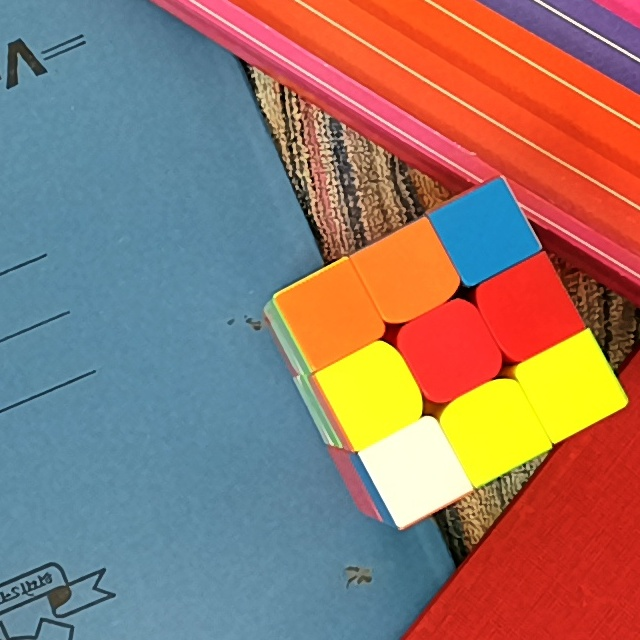tile: (417, 320, 482, 383), (373, 244, 438, 304), (301, 284, 363, 346), (466, 398, 529, 459), (344, 363, 406, 423), (453, 203, 514, 263), (498, 278, 557, 339), (544, 355, 602, 416), (389, 446, 447, 500)
